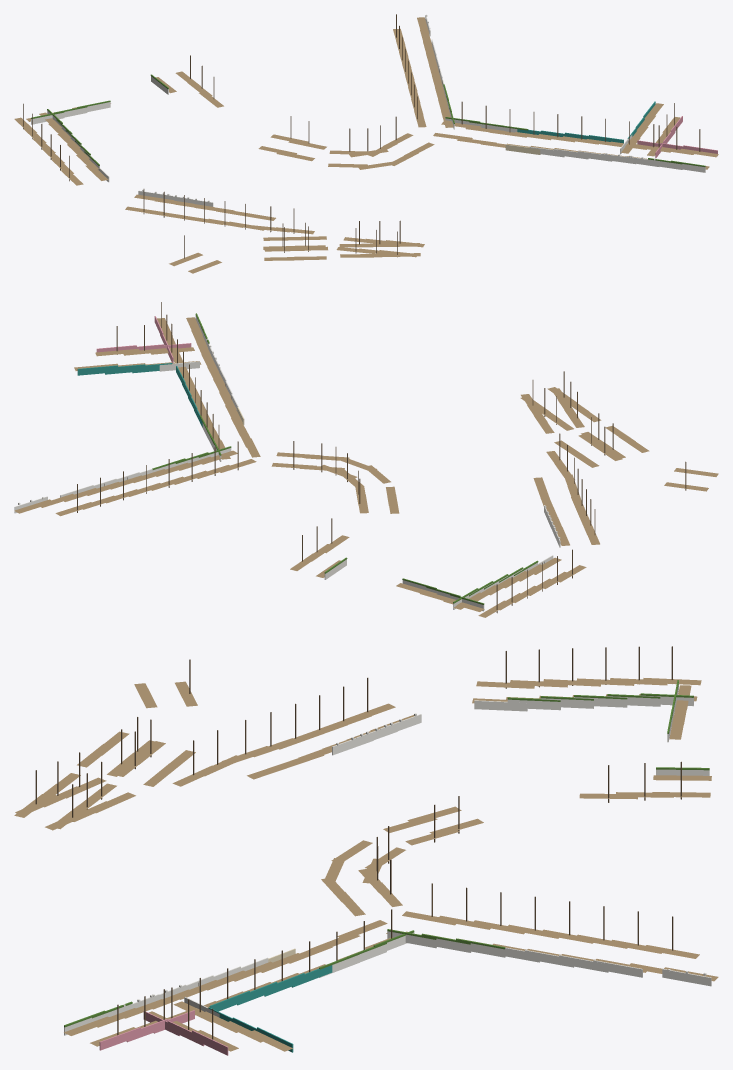
Rendered from noord_res_-15_-10.glb.
The picture shows the model from 3 angles, top to bottom: view 1: azimuth 30°, elevation 25°; view 2: azimuth 150°, elevation 25°; view 3: azimuth 270°, elevation 25°; orthographic projection. The views are drawn at different scales.
Visible parts, largest first — view 1: noord_res_-15_-10_lod0; view 2: noord_res_-15_-10_lod0; view 3: noord_res_-15_-10_lod0.
Boxes of the visible parts, <box> form: noord_res_-15_-10_lod0: <box>14,14,718,273</box>; noord_res_-15_-10_lod0: <box>14,302,718,617</box>; noord_res_-15_-10_lod0: <box>14,646,718,1055</box>.
Size of what is drawn, in the model's own units: 184 by 14.41 by 145.
